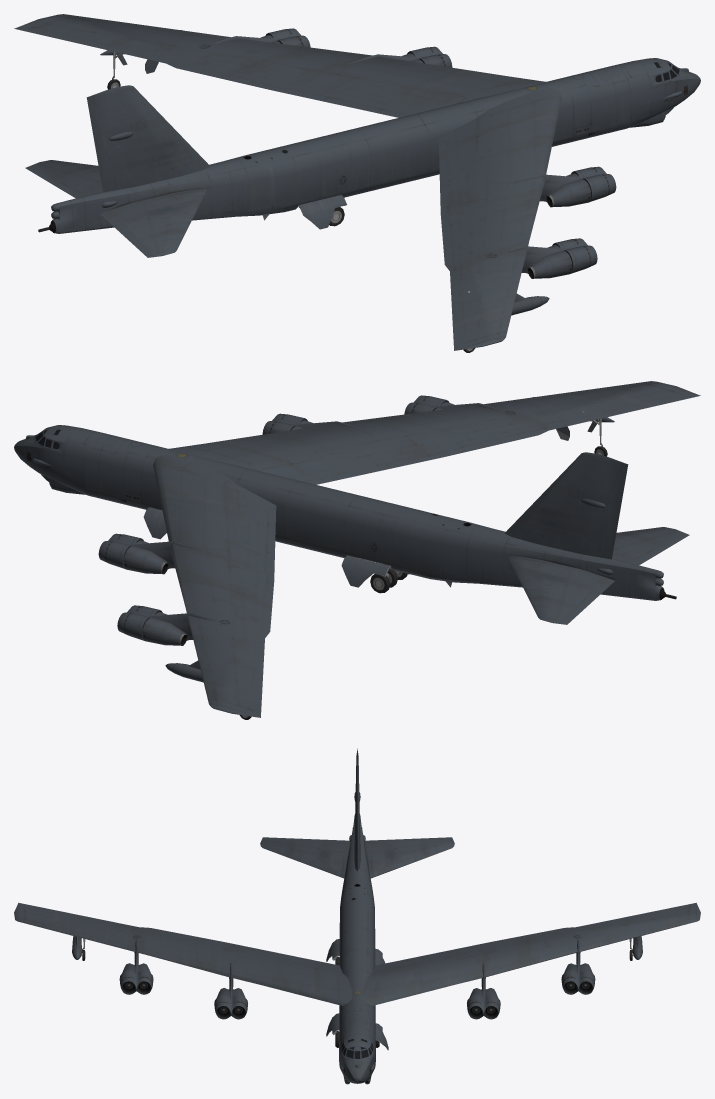
Rendered from ace_combat_7_b-52h_stratofortress.glb.
3 renders of one model, top to bottom at view 1: azimuth 30°, elevation 25°; view 2: azimuth 150°, elevation 25°; view 3: azimuth 270°, elevation 25°, orthographic. The views are drawn at different scales.
Visible parts, largest first — view 1: Object_2; view 2: Object_2; view 3: Object_2.
Boxes of the visible parts, x1=… form: Object_2: x1=14, y1=14, x2=700, y2=352; Object_2: x1=14, y1=381, x2=700, y2=719; Object_2: x1=14, y1=748, x2=700, y2=1084.
Bounding box in the file's own units: 494 × 128 × 577.
1 material, 1 textured.
